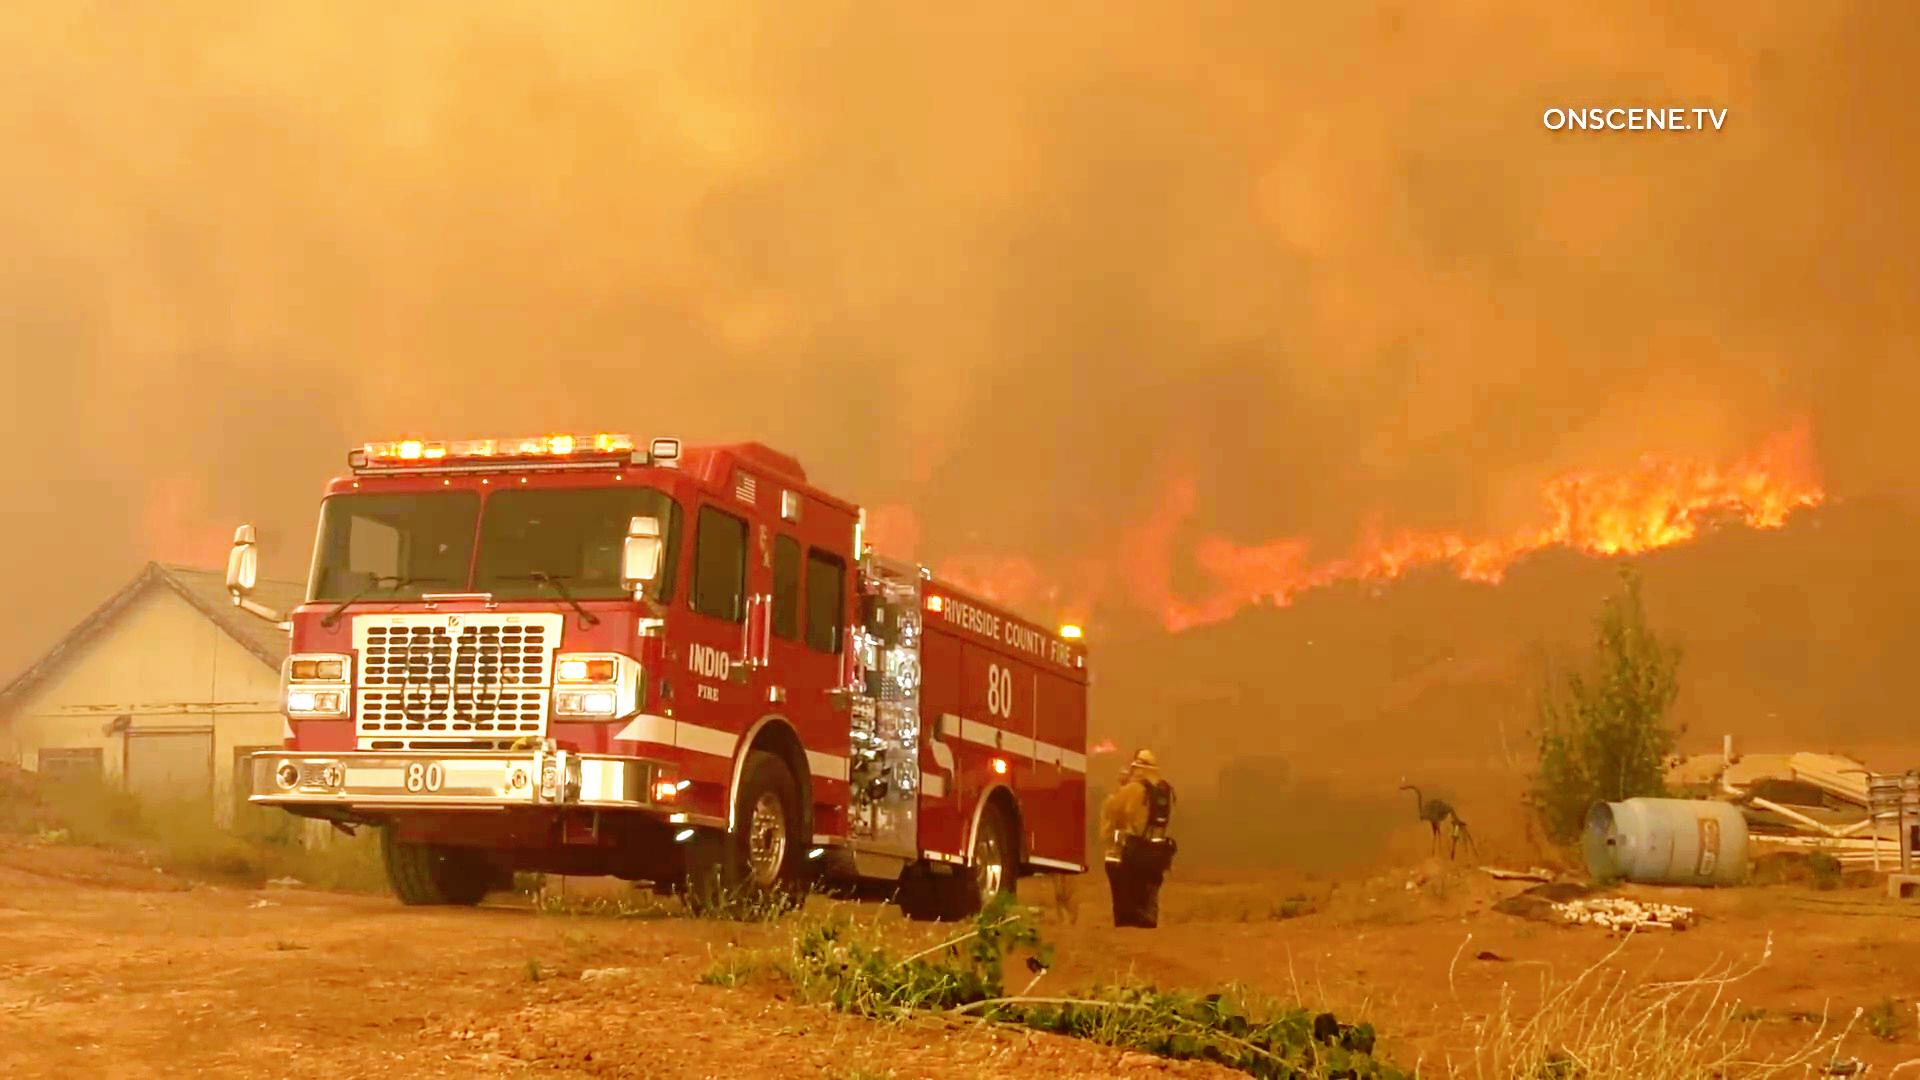fire: (1542, 356, 1849, 584), (1611, 345, 1875, 545)
smoke: (715, 5, 1189, 336), (1286, 182, 1627, 359)
